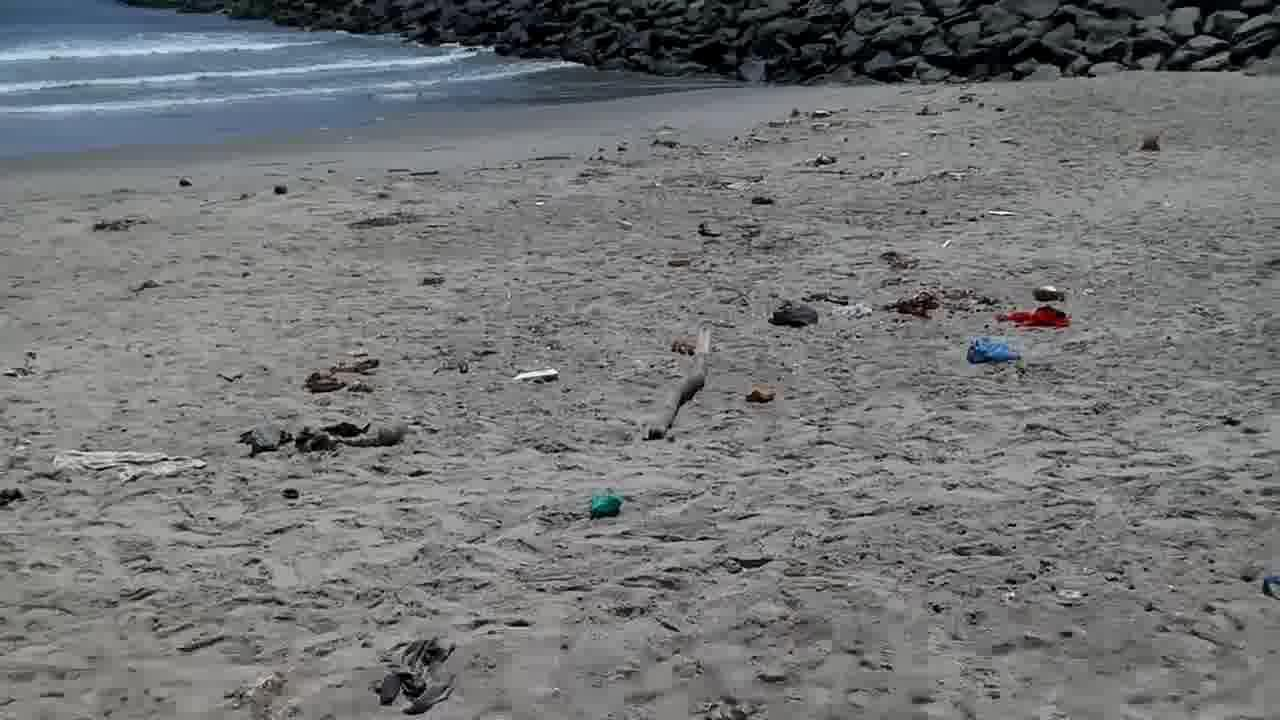obj: (646, 314, 718, 448), (50, 438, 208, 484), (372, 634, 461, 714), (237, 420, 410, 460), (880, 288, 978, 320), (997, 295, 1080, 330), (306, 360, 382, 394), (966, 332, 1022, 370), (768, 300, 821, 326), (590, 487, 626, 518), (511, 369, 556, 388)
sand/background: (0, 0, 1279, 175)
